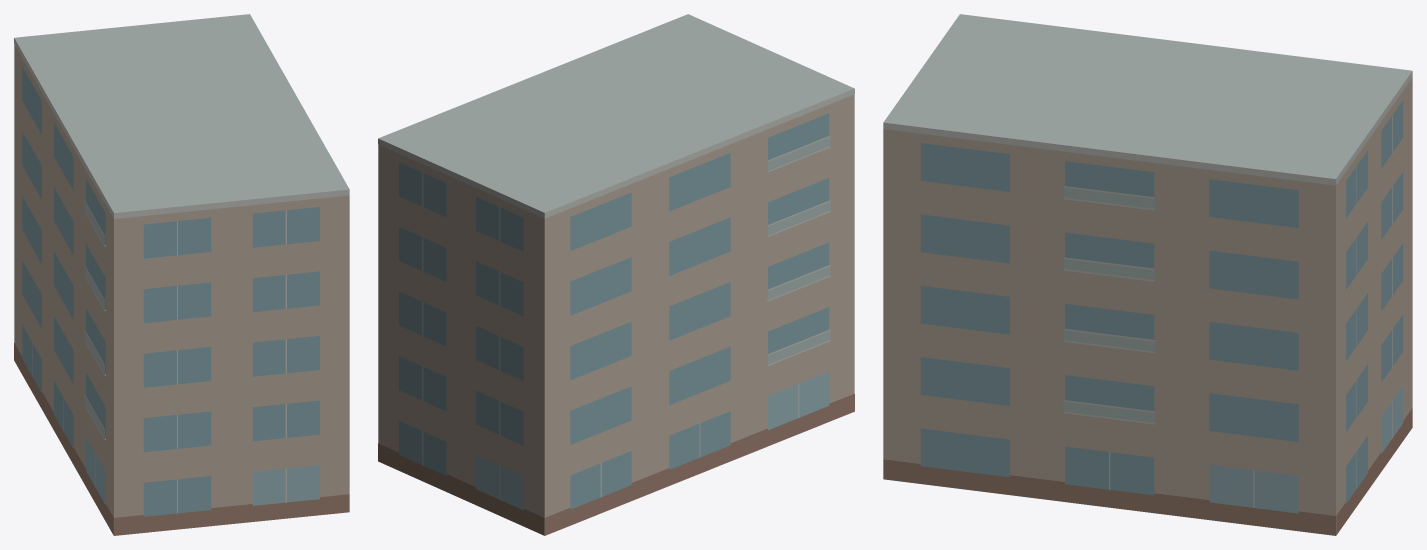
The model's file is survey-upis-32872780.glb.
3 renders of one model, left to right at view 1: azimuth 30°, elevation 25°; view 2: azimuth 150°, elevation 25°; view 3: azimuth 270°, elevation 25°, orthographic. The views are drawn at different scales.
Parts seen in each view (by area): view 1: survey-upis-32872780.tmp; view 2: survey-upis-32872780.tmp; view 3: survey-upis-32872780.tmp.
Boxes of the visible parts, <box> form: survey-upis-32872780.tmp: <box>14,14,349,535</box>; survey-upis-32872780.tmp: <box>378,14,854,535</box>; survey-upis-32872780.tmp: <box>883,14,1412,535</box>.
Bounding box in the file's own units: 13.31 × 13.4 × 18.03.
